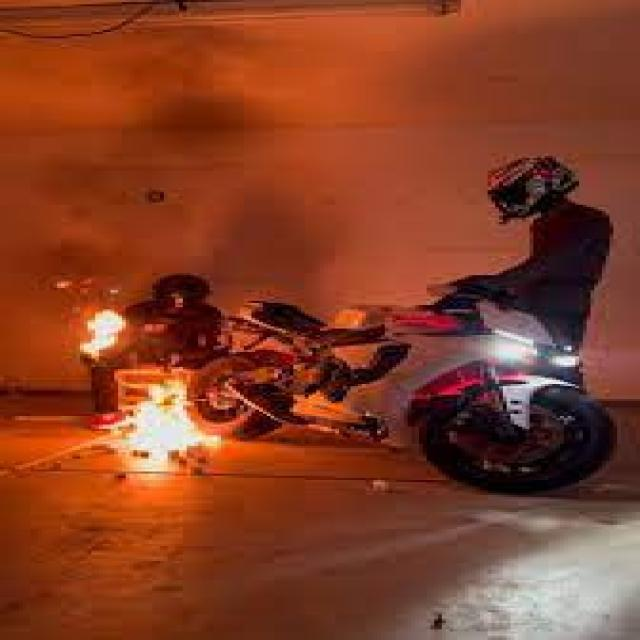fire: (110, 381, 222, 462), (77, 309, 128, 363)
